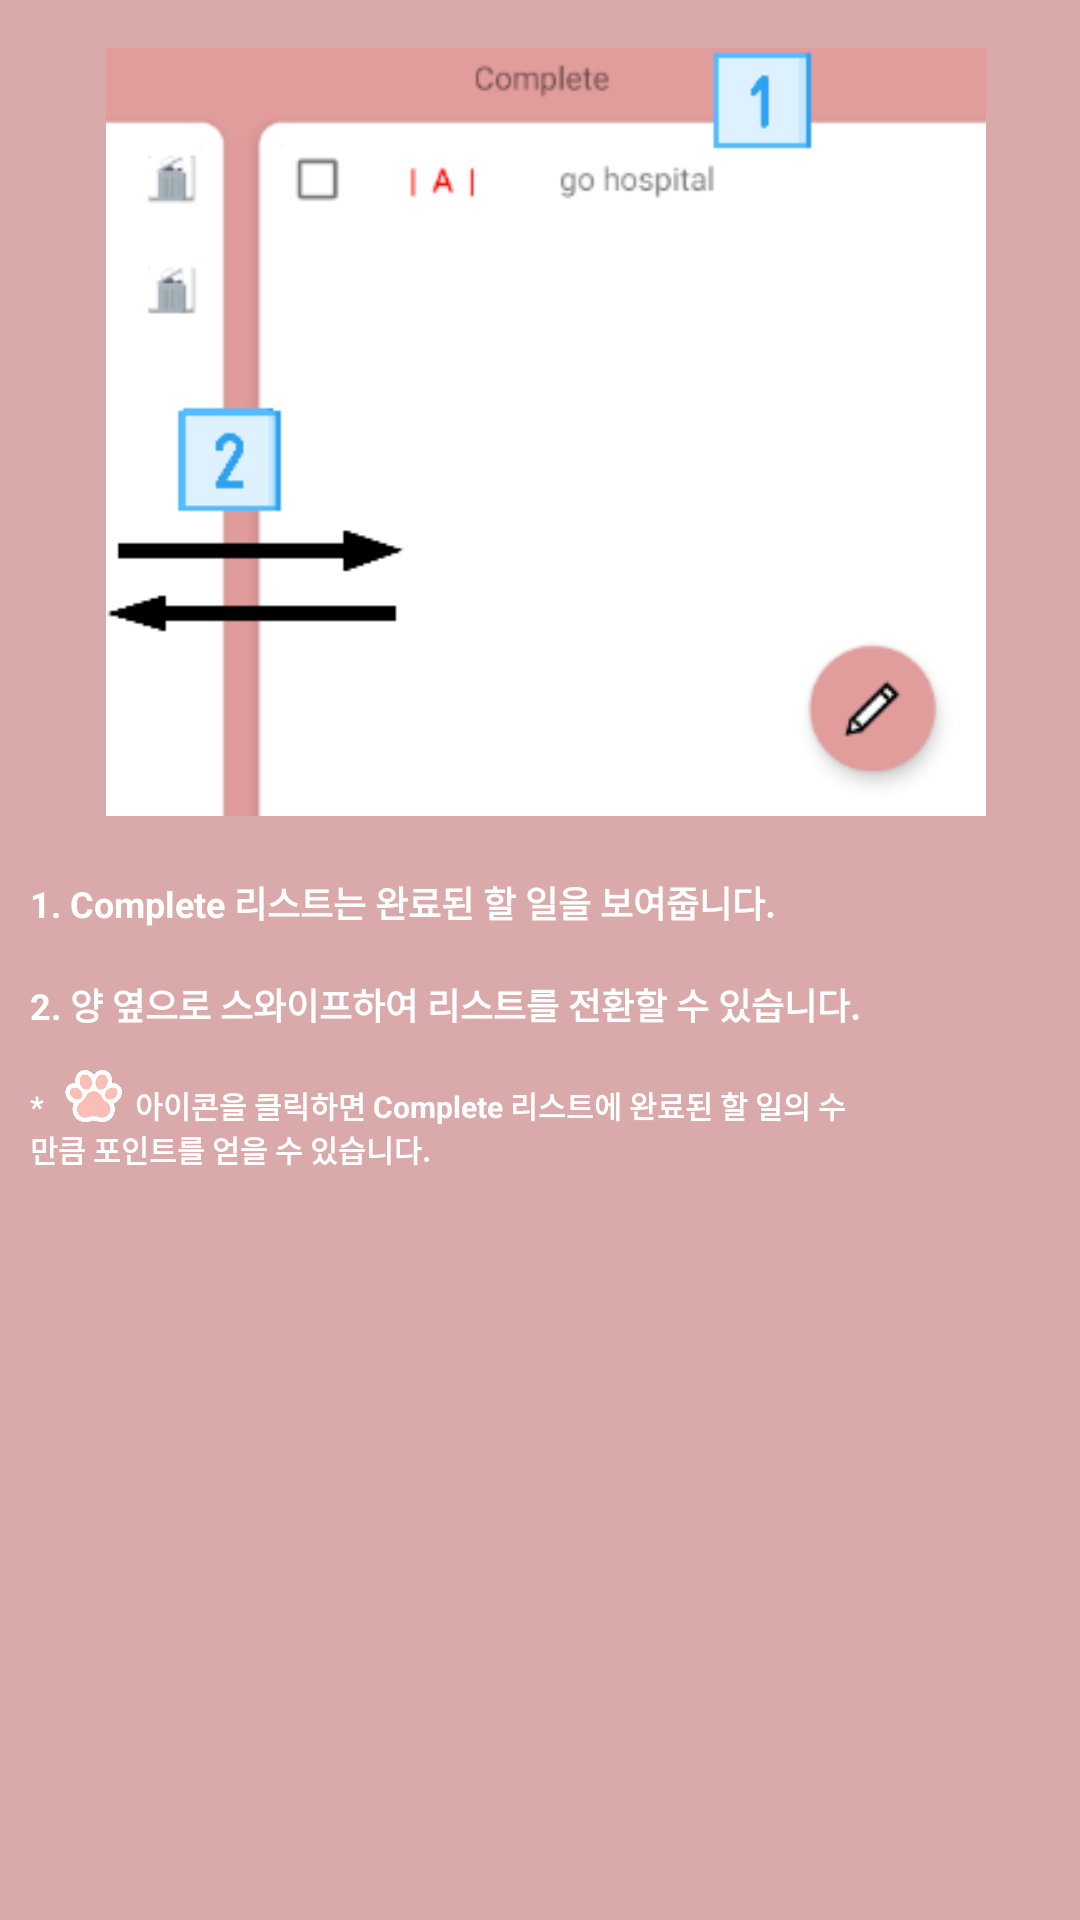

Where icons sit on this 1080w x 1920h app screen, as [x1,y1,x2,y2]:
cat footprint: [65,1070,122,1122]
